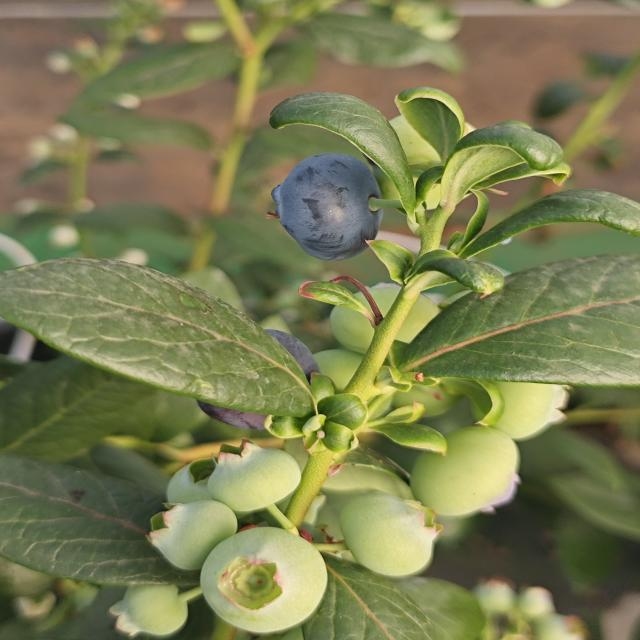ripe: (179, 316, 326, 438), (248, 145, 390, 257)
